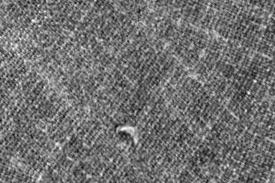snag: (112, 122, 143, 150)
